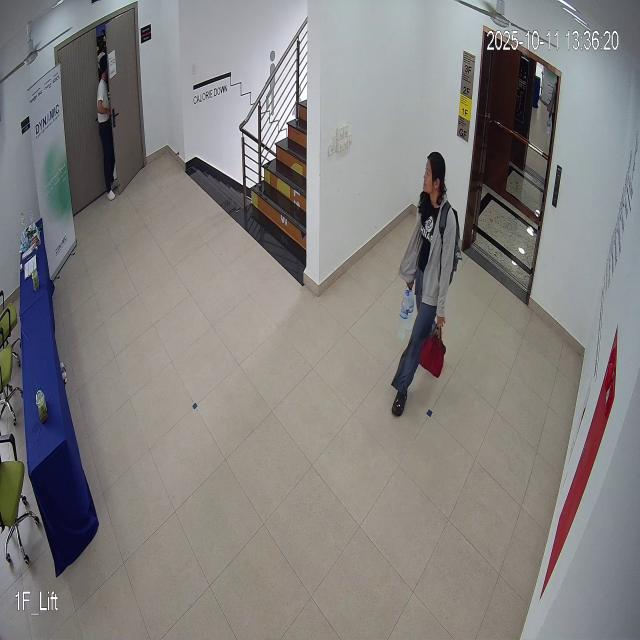face: (417, 143, 449, 207)
